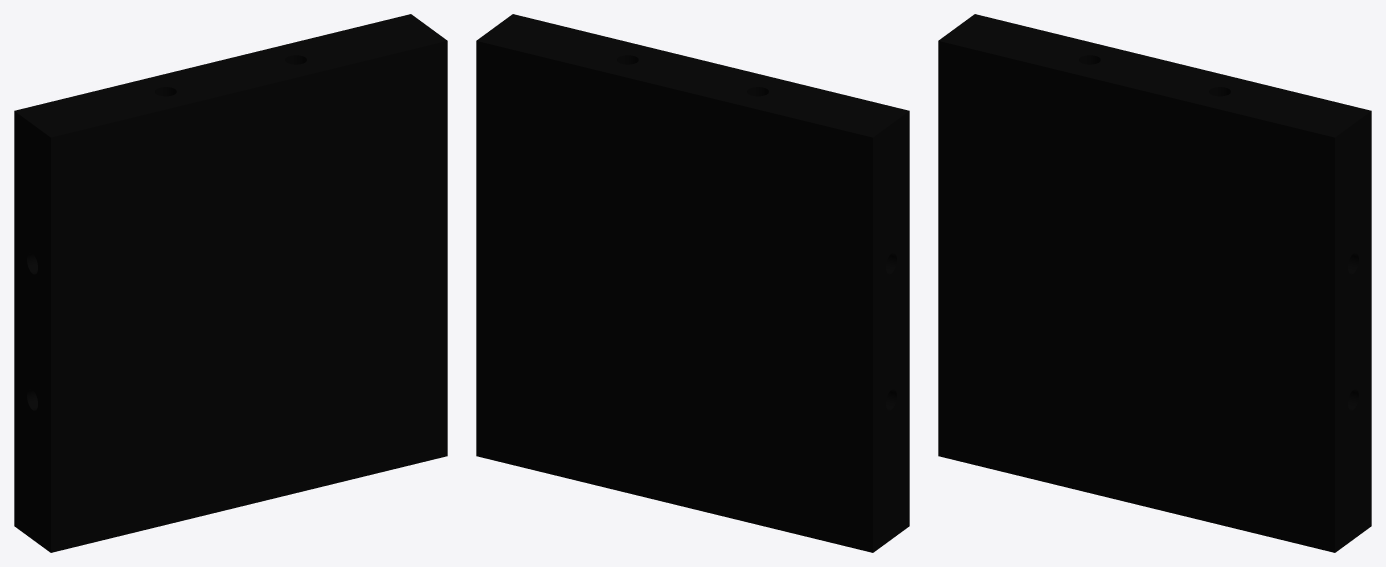
The model's file is Panel_125x125_UV.glb.
3 views of the same model, side by side, from view 1: azimuth 30°, elevation 25°; view 2: azimuth 150°, elevation 25°; view 3: azimuth 330°, elevation 25° (orthographic).
Visible parts, largest first — view 1: Panel_125x125; view 2: Panel_125x125; view 3: Panel_125x125.
Boxes of the visible parts, <box> form: Panel_125x125: <box>14,14,447,552</box>; Panel_125x125: <box>476,14,909,552</box>; Panel_125x125: <box>938,14,1371,552</box>.
Size of the model in its own units: 0.125 by 0.125 by 0.02.
Materials: 1 (1 with a texture image).
